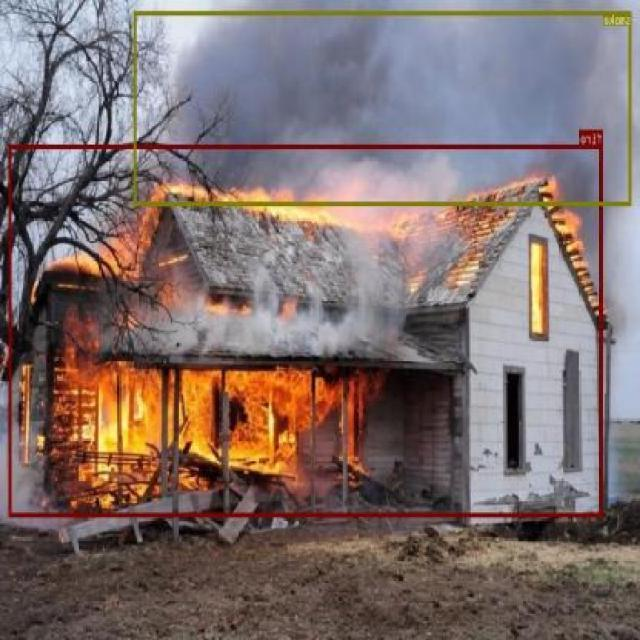Fire: (8, 144, 604, 516)
Smoke: (133, 11, 632, 204)
